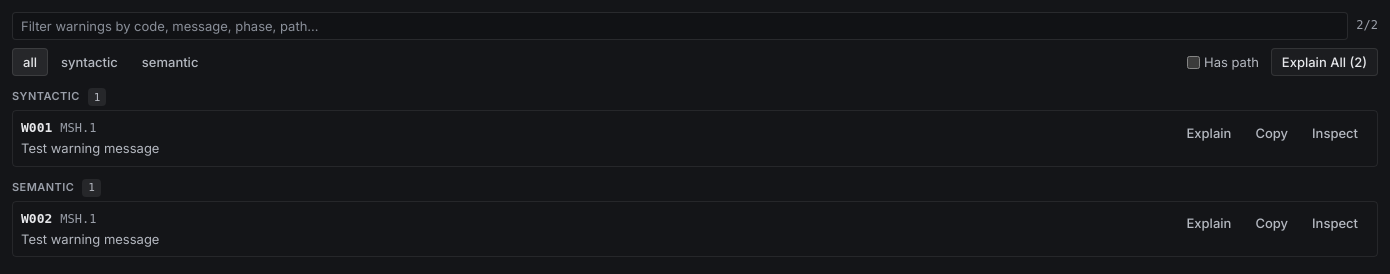
Test case: WarningList › filtering › should show all warnings when "all" chip is clicked
The image size is (1390, 274).
// First filter to syntactic
Click the button "syntactic": (89, 62) [50,48,129,76]
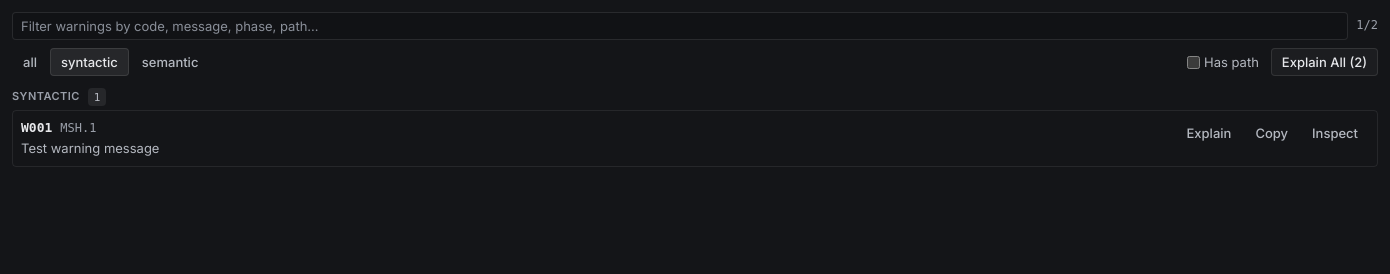
// Then click all
Click the button "all": (30, 62) [12,48,48,76]
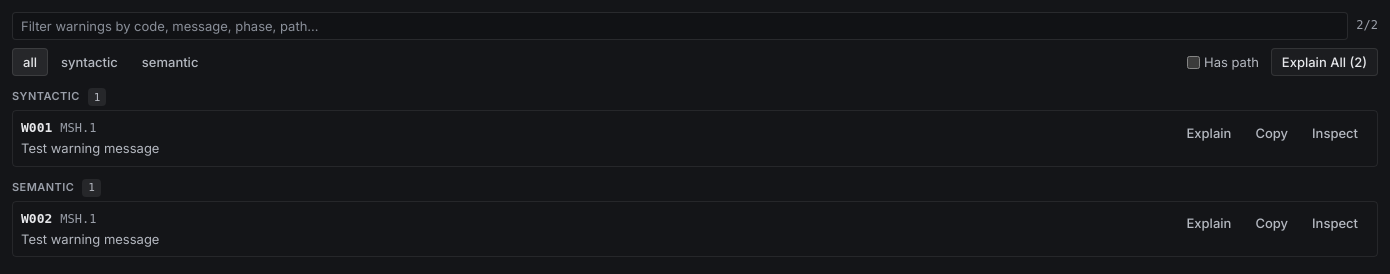
expect the text "W001" is shown: met, box [21,119,52,138]
expect the text "W002" is shown: met, box [21,210,52,228]
